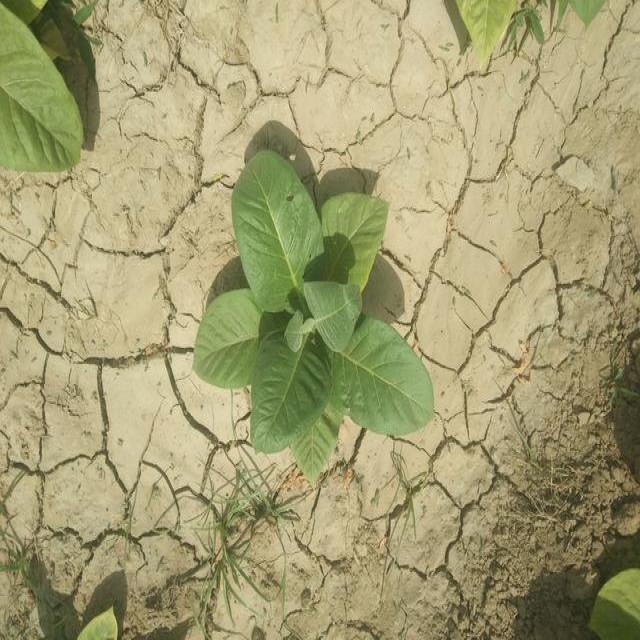crop: (200, 150, 432, 460), (0, 3, 89, 176), (578, 559, 640, 640), (454, 0, 531, 55), (74, 596, 134, 640)
